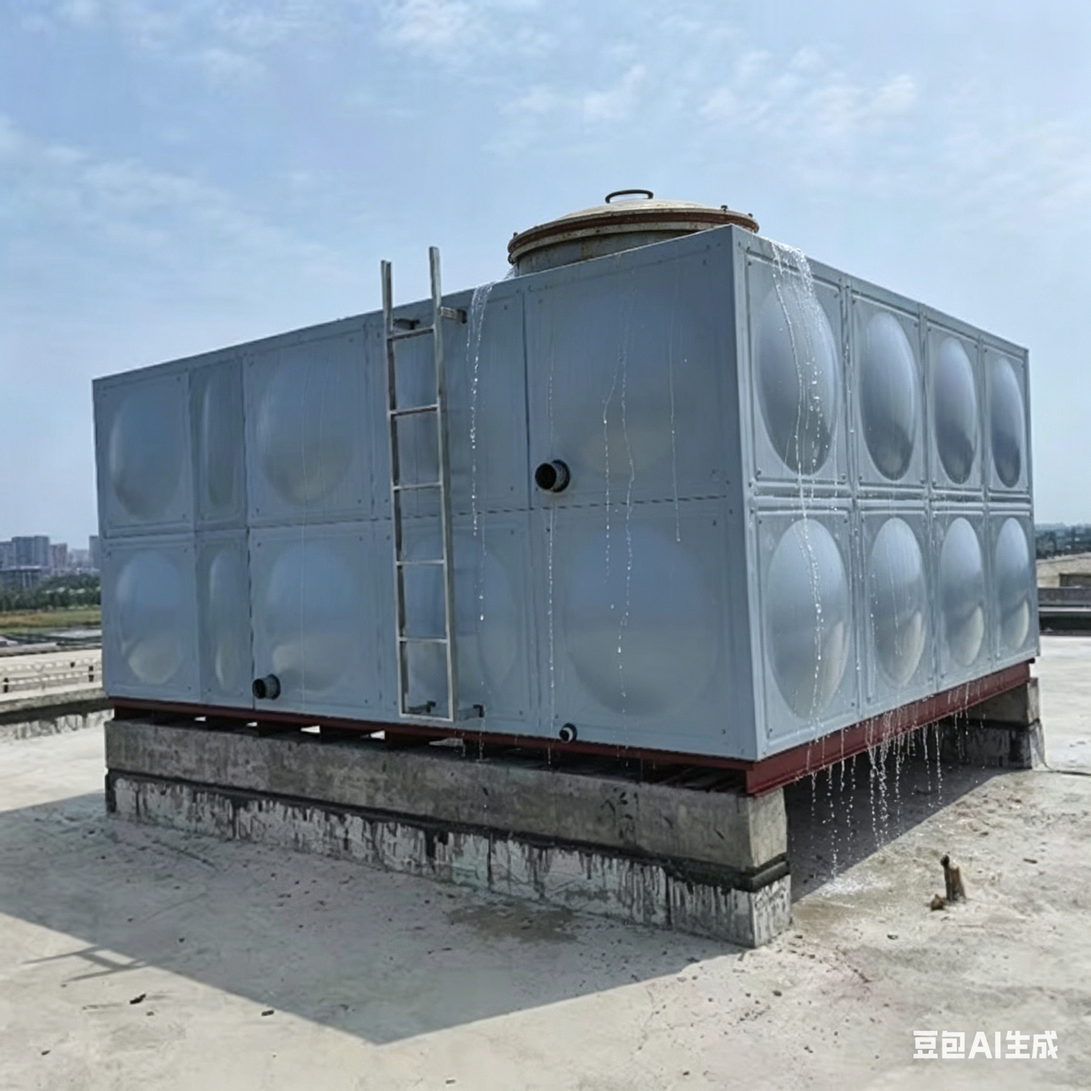Leakage: (746, 233, 898, 866), (592, 317, 704, 786), (909, 662, 1051, 822), (453, 269, 497, 650), (527, 475, 572, 754)
